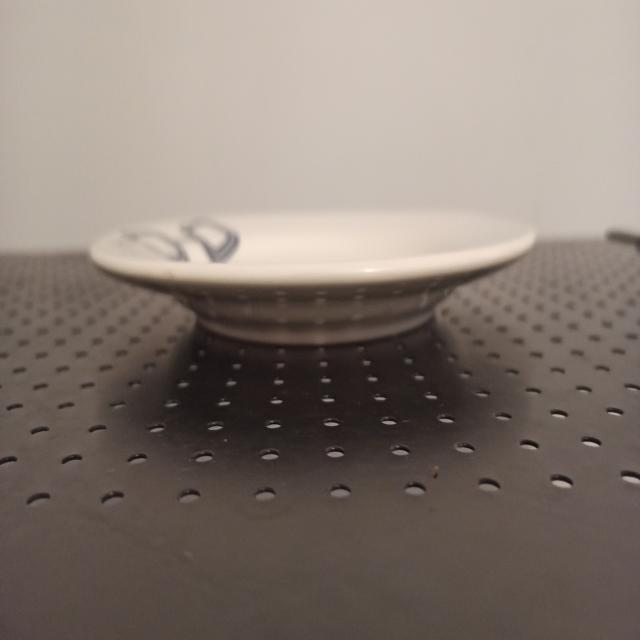ceramic plate: (67, 148, 593, 366)
